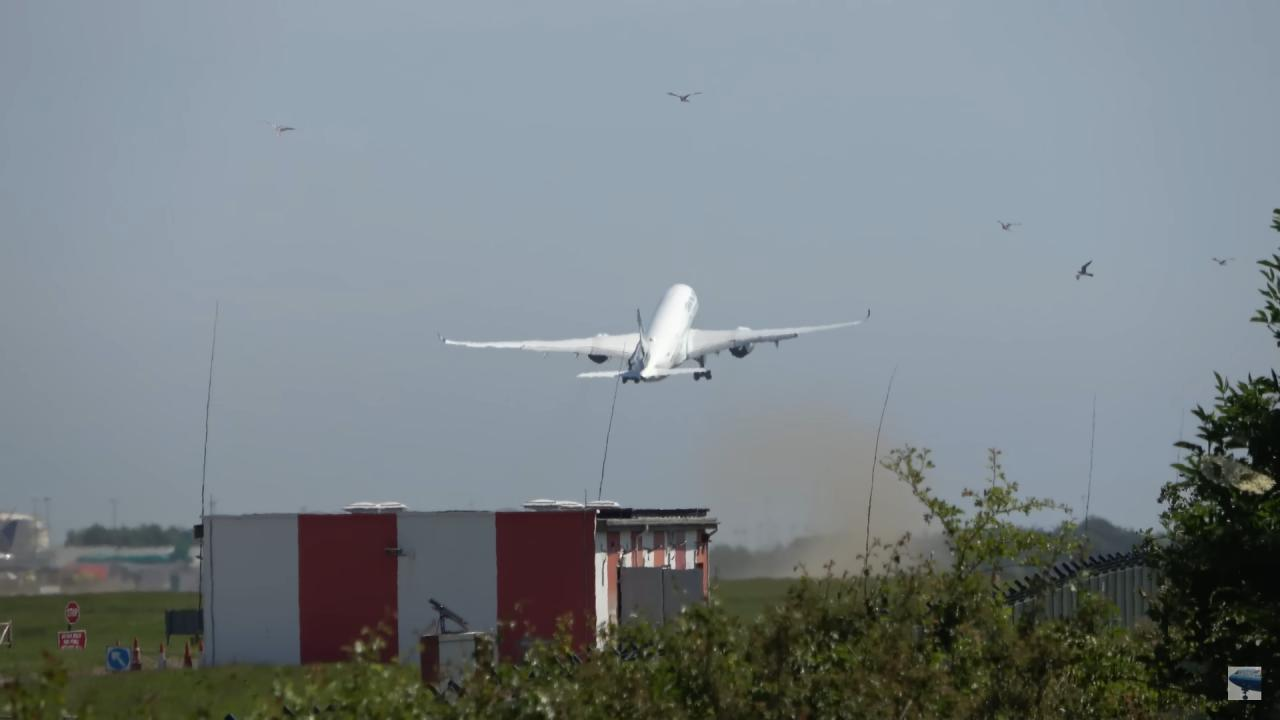Airplane: (427, 272, 876, 392)
